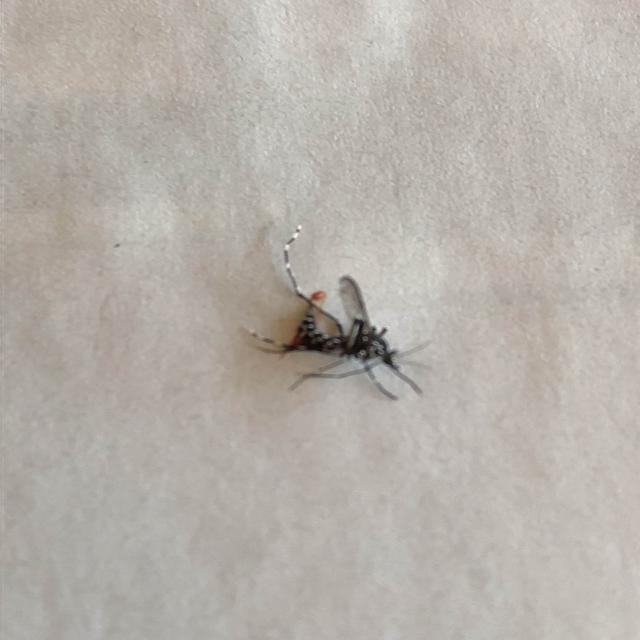albopictus: (227, 214, 440, 409)
